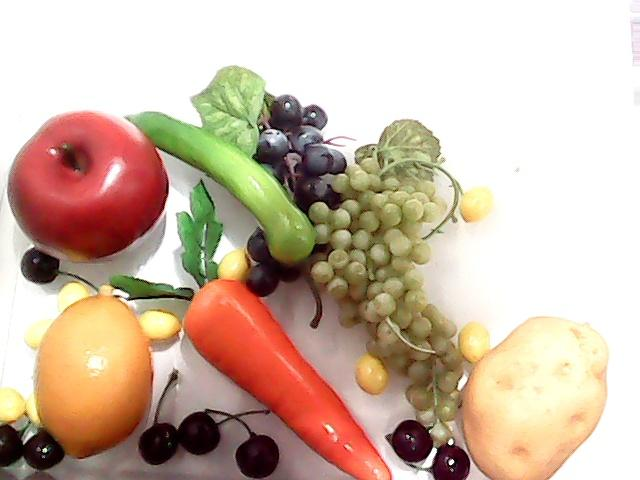apple: (3, 103, 173, 265)
carrot: (111, 176, 392, 480)
grape: (310, 167, 470, 454), (239, 92, 349, 300)
lemon: (31, 292, 159, 464)
pepper: (118, 99, 320, 273)
potato: (452, 308, 612, 480)
